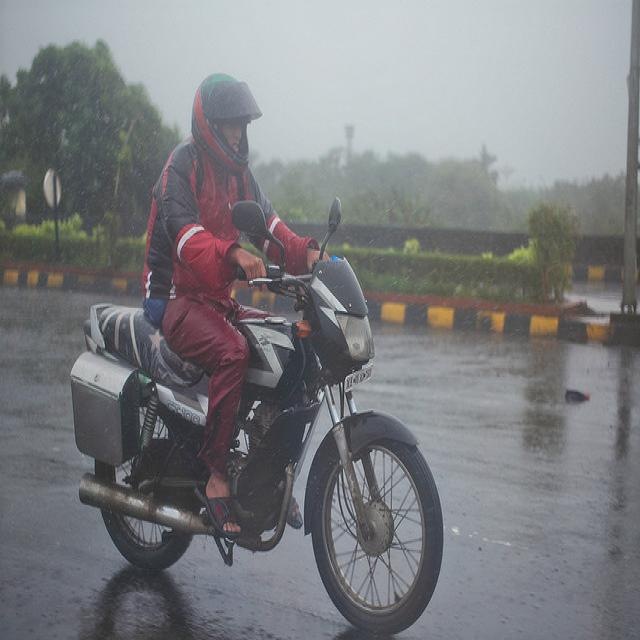motor: (72, 193, 448, 633)
